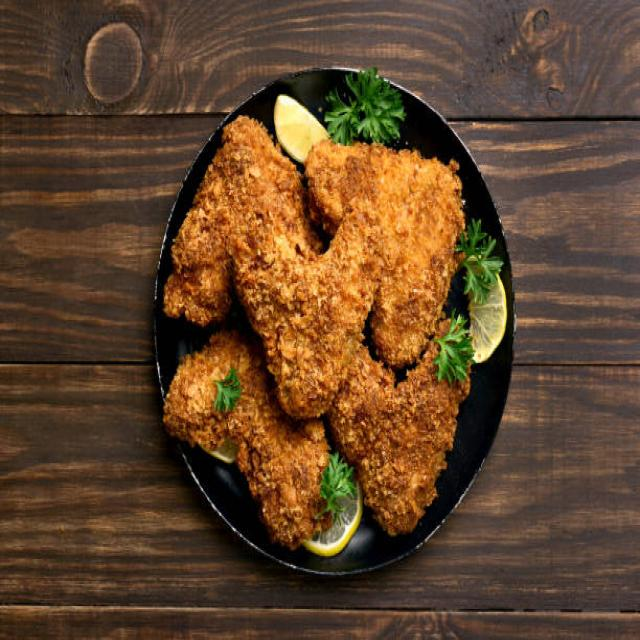Frango: (160, 94, 475, 546)
